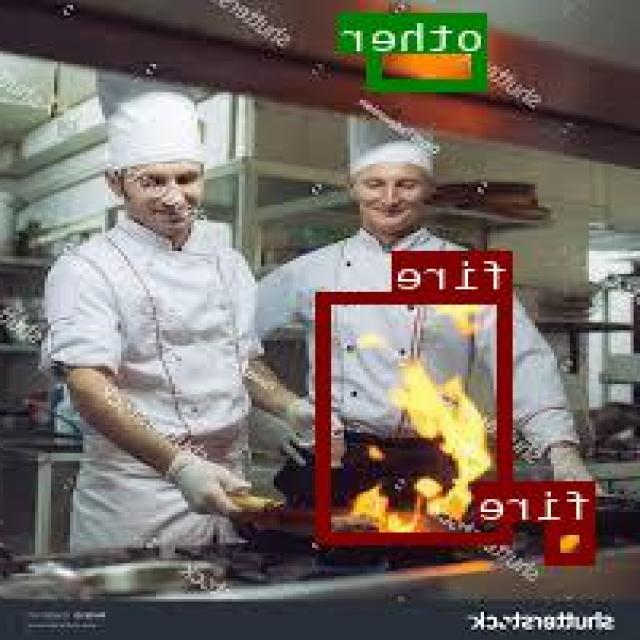fire: (319, 291, 515, 541), (549, 522, 596, 561)
other: (370, 11, 488, 88)
